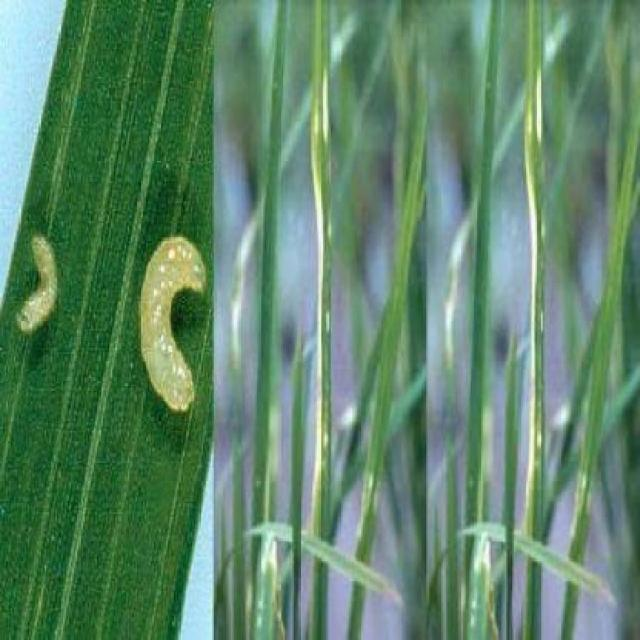whorl-maggot: (124, 222, 210, 427), (7, 216, 67, 355)
